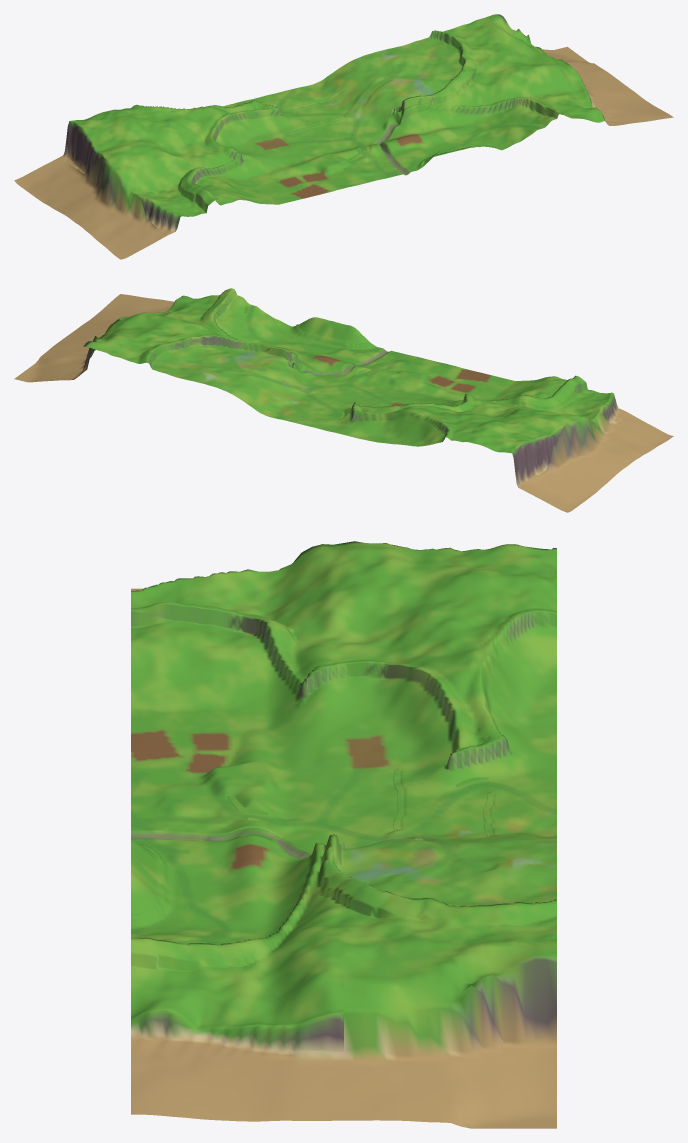
Rendered from terrain.glb.
3 views of the same model, one above another, from view 1: azimuth 30°, elevation 25°; view 2: azimuth 150°, elevation 25°; view 3: azimuth 270°, elevation 25° (orthographic). The views are drawn at different scales.
Parts seen in each view (by area): view 1: terrain_3_4, terrain_2_4, terrain_1_4, terrain_4_4; view 2: terrain_2_4, terrain_1_4, terrain_3_4, terrain_4_4; view 3: terrain_3_4, terrain_2_4, terrain_1_4, terrain_4_4.
Boxes of the visible parts, bbox=[...] form: terrain_3_4: bbox=[337, 14, 626, 156]; terrain_2_4: bbox=[165, 70, 439, 204]; terrain_1_4: bbox=[14, 104, 258, 259]; terrain_4_4: bbox=[542, 46, 673, 123]; terrain_2_4: bbox=[245, 326, 534, 446]; terrain_1_4: bbox=[429, 375, 673, 512]; terrain_3_4: bbox=[61, 288, 350, 401]; terrain_4_4: bbox=[14, 294, 166, 382]; terrain_3_4: bbox=[131, 834, 556, 1064]; terrain_2_4: bbox=[131, 624, 556, 870]; terrain_1_4: bbox=[131, 541, 556, 679]; terrain_4_4: bbox=[131, 1045, 556, 1128].
Bounding box in the file's own units: 540 × 49.19 × 180.
